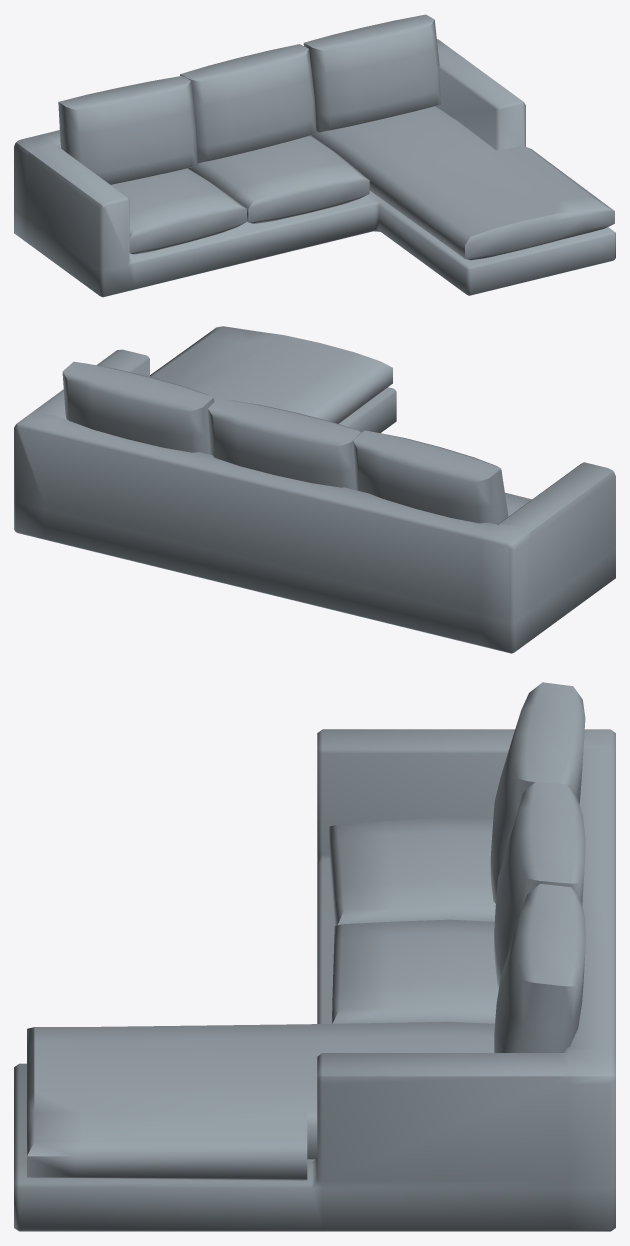
File: pk_sect_bluegrey.glb
3 views of the same model, one above another, from view 1: azimuth 30°, elevation 25°; view 2: azimuth 150°, elevation 25°; view 3: azimuth 270°, elevation 25° (orthographic). The views are drawn at different scales.
Visible parts, largest first — view 1: pk_sect_bluegrey; view 2: pk_sect_bluegrey; view 3: pk_sect_bluegrey.
Part boxes in pixels (<box>): pk_sect_bluegrey: <box>14,14,615,297</box>; pk_sect_bluegrey: <box>14,326,615,653</box>; pk_sect_bluegrey: <box>14,682,615,1231</box>.
Size of the model in its own units: 2.9 by 0.88 by 2.1.
1 material, 1 textured.
